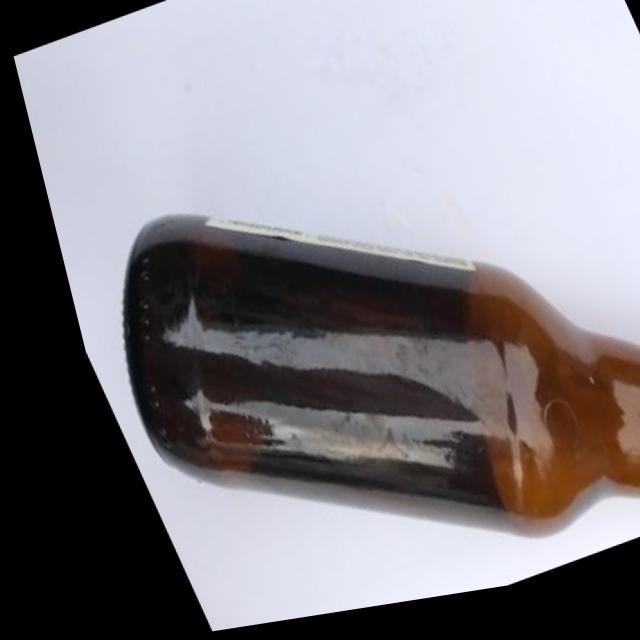glass: (25, 50, 640, 640)
